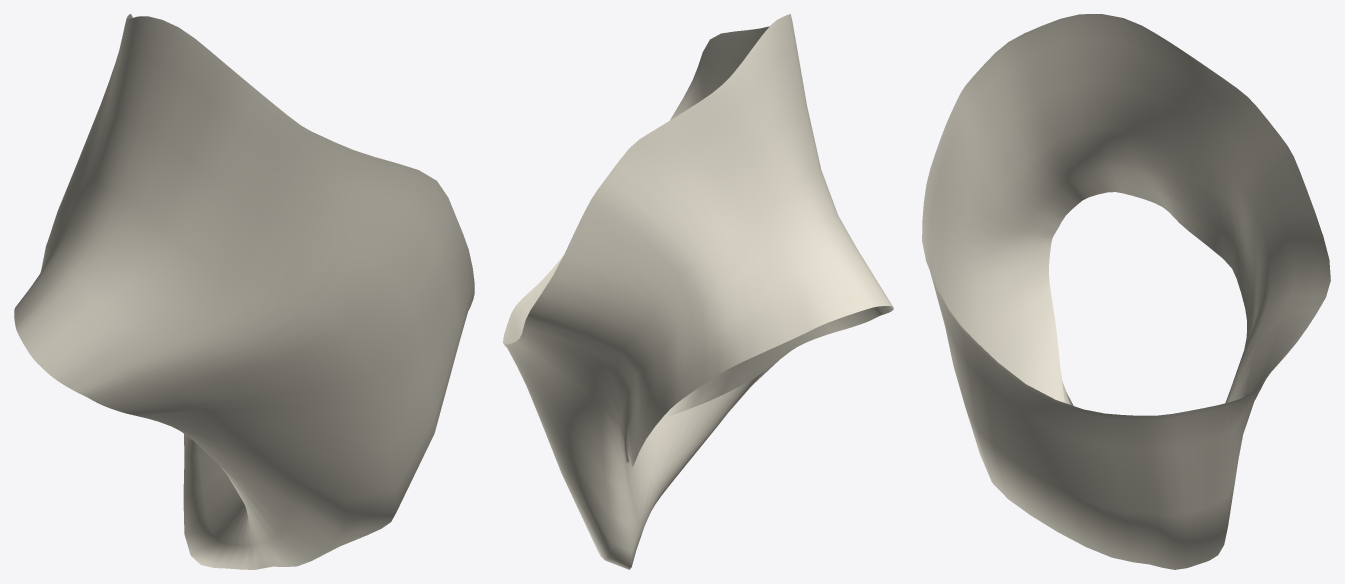
The picture shows the model from 3 angles, left to right: view 1: azimuth 30°, elevation 25°; view 2: azimuth 150°, elevation 25°; view 3: azimuth 270°, elevation 25°; orthographic projection. The views are drawn at different scales.
Visible parts, largest first — view 1: ZA_327b13fb3ba12514; view 2: ZA_327b13fb3ba12514; view 3: ZA_327b13fb3ba12514.
Part boxes in pixels (<box>): ZA_327b13fb3ba12514: <box>14,14,474,569</box>; ZA_327b13fb3ba12514: <box>503,14,893,569</box>; ZA_327b13fb3ba12514: <box>922,14,1330,569</box>.
Bounding box in the file's own units: 0.0541 × 0.0787 × 0.0573.
